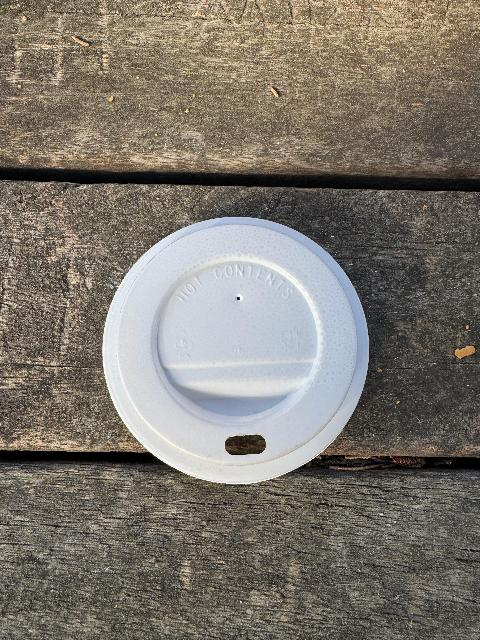Plastik: (94, 209, 371, 494)
